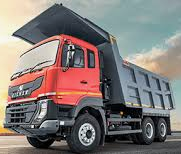truck: (3, 5, 175, 152)
